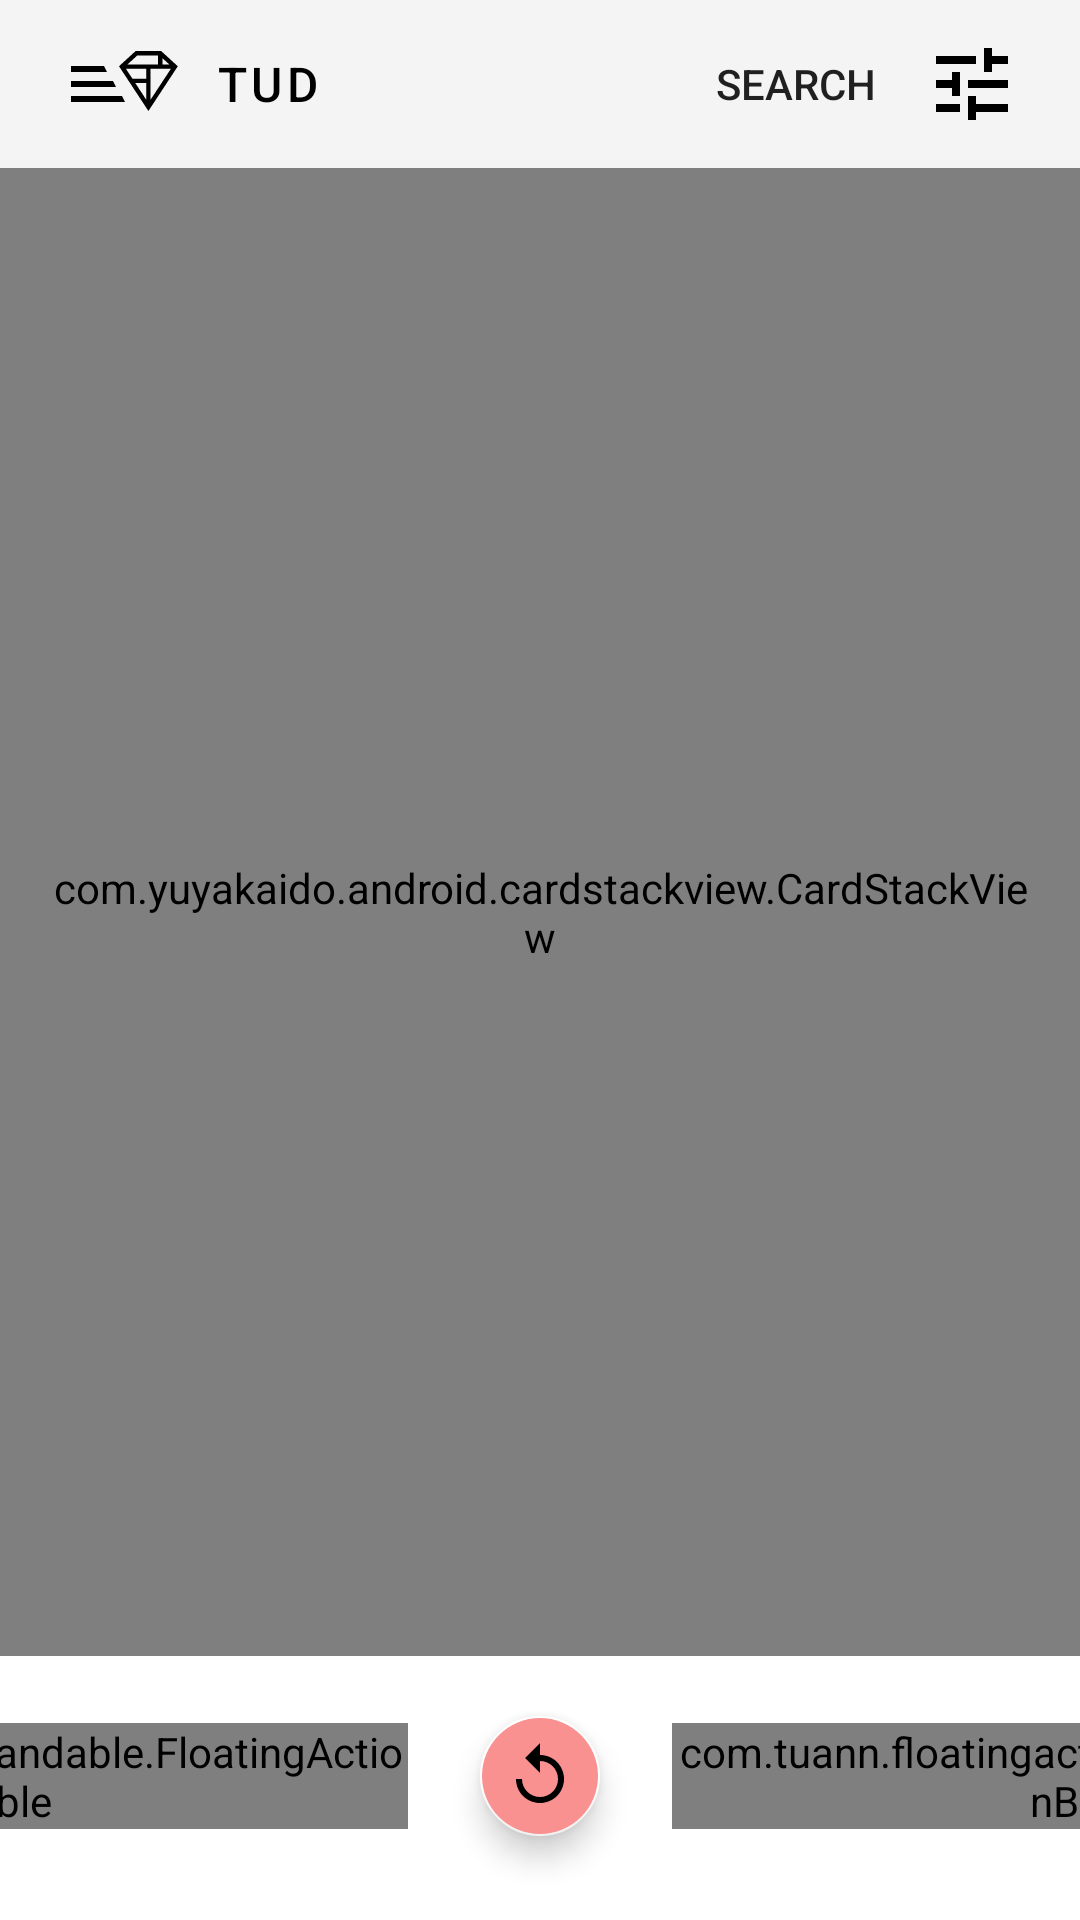

Named icons in this screenshot (1080x1920) and their bounding boxes, (x1, y1, x2, y2):
rewind: (482, 1718, 599, 1848)
